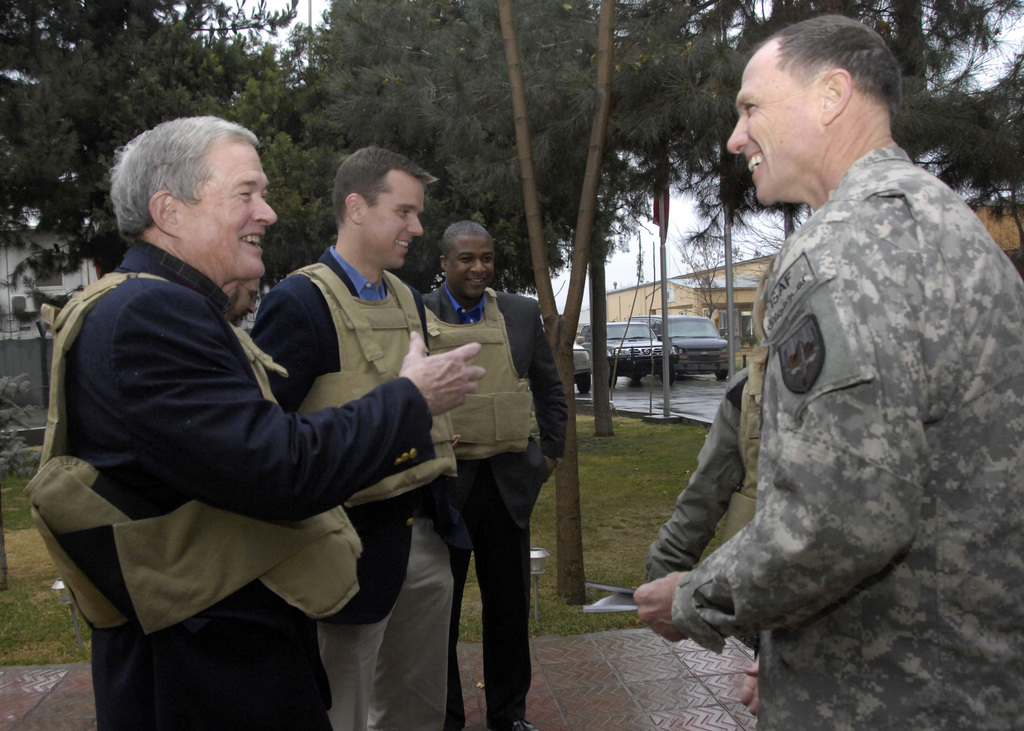Car: (629, 315, 731, 382), (579, 323, 677, 374), (571, 332, 593, 390)
